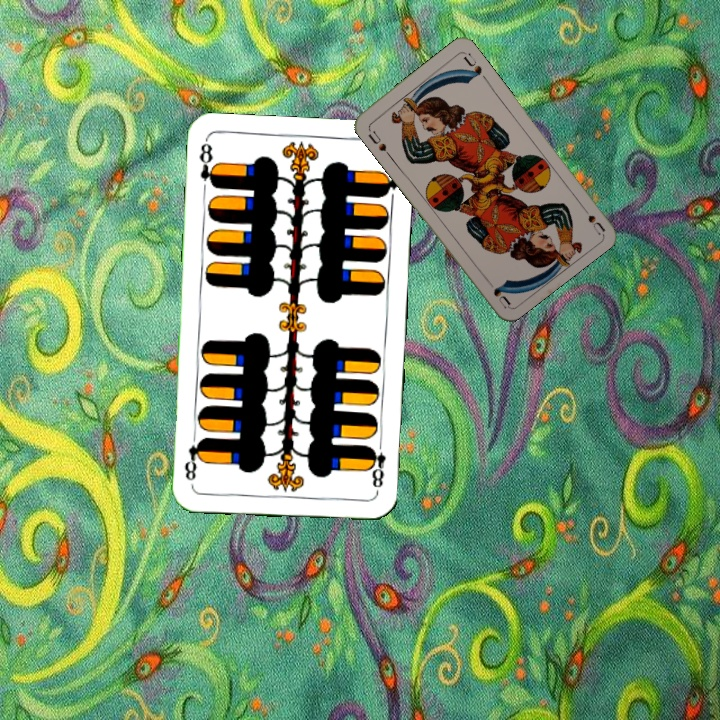E8: (364, 436, 388, 495), (195, 137, 220, 191)
SU: (576, 200, 607, 236), (364, 124, 393, 159)
